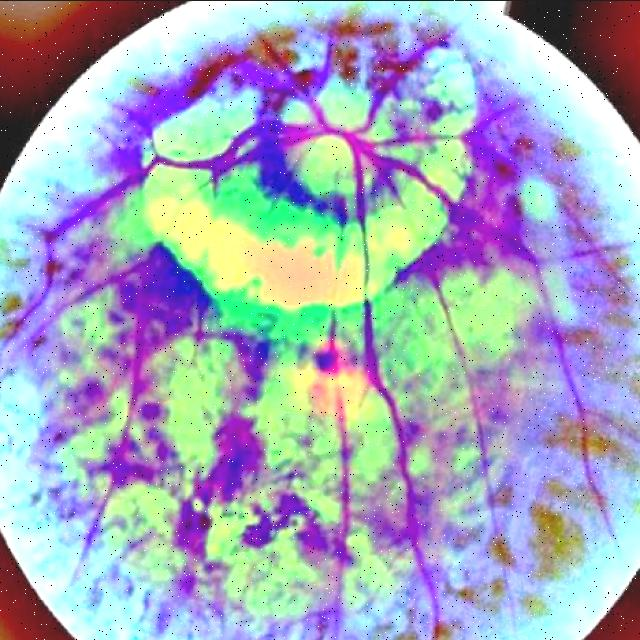Optic Disk: (124, 46, 476, 321), (289, 138, 351, 196), (317, 78, 369, 129)
